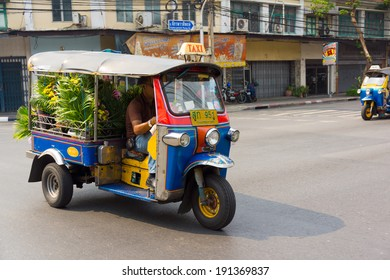threewheel: (26, 50, 239, 232), (356, 64, 390, 121)
